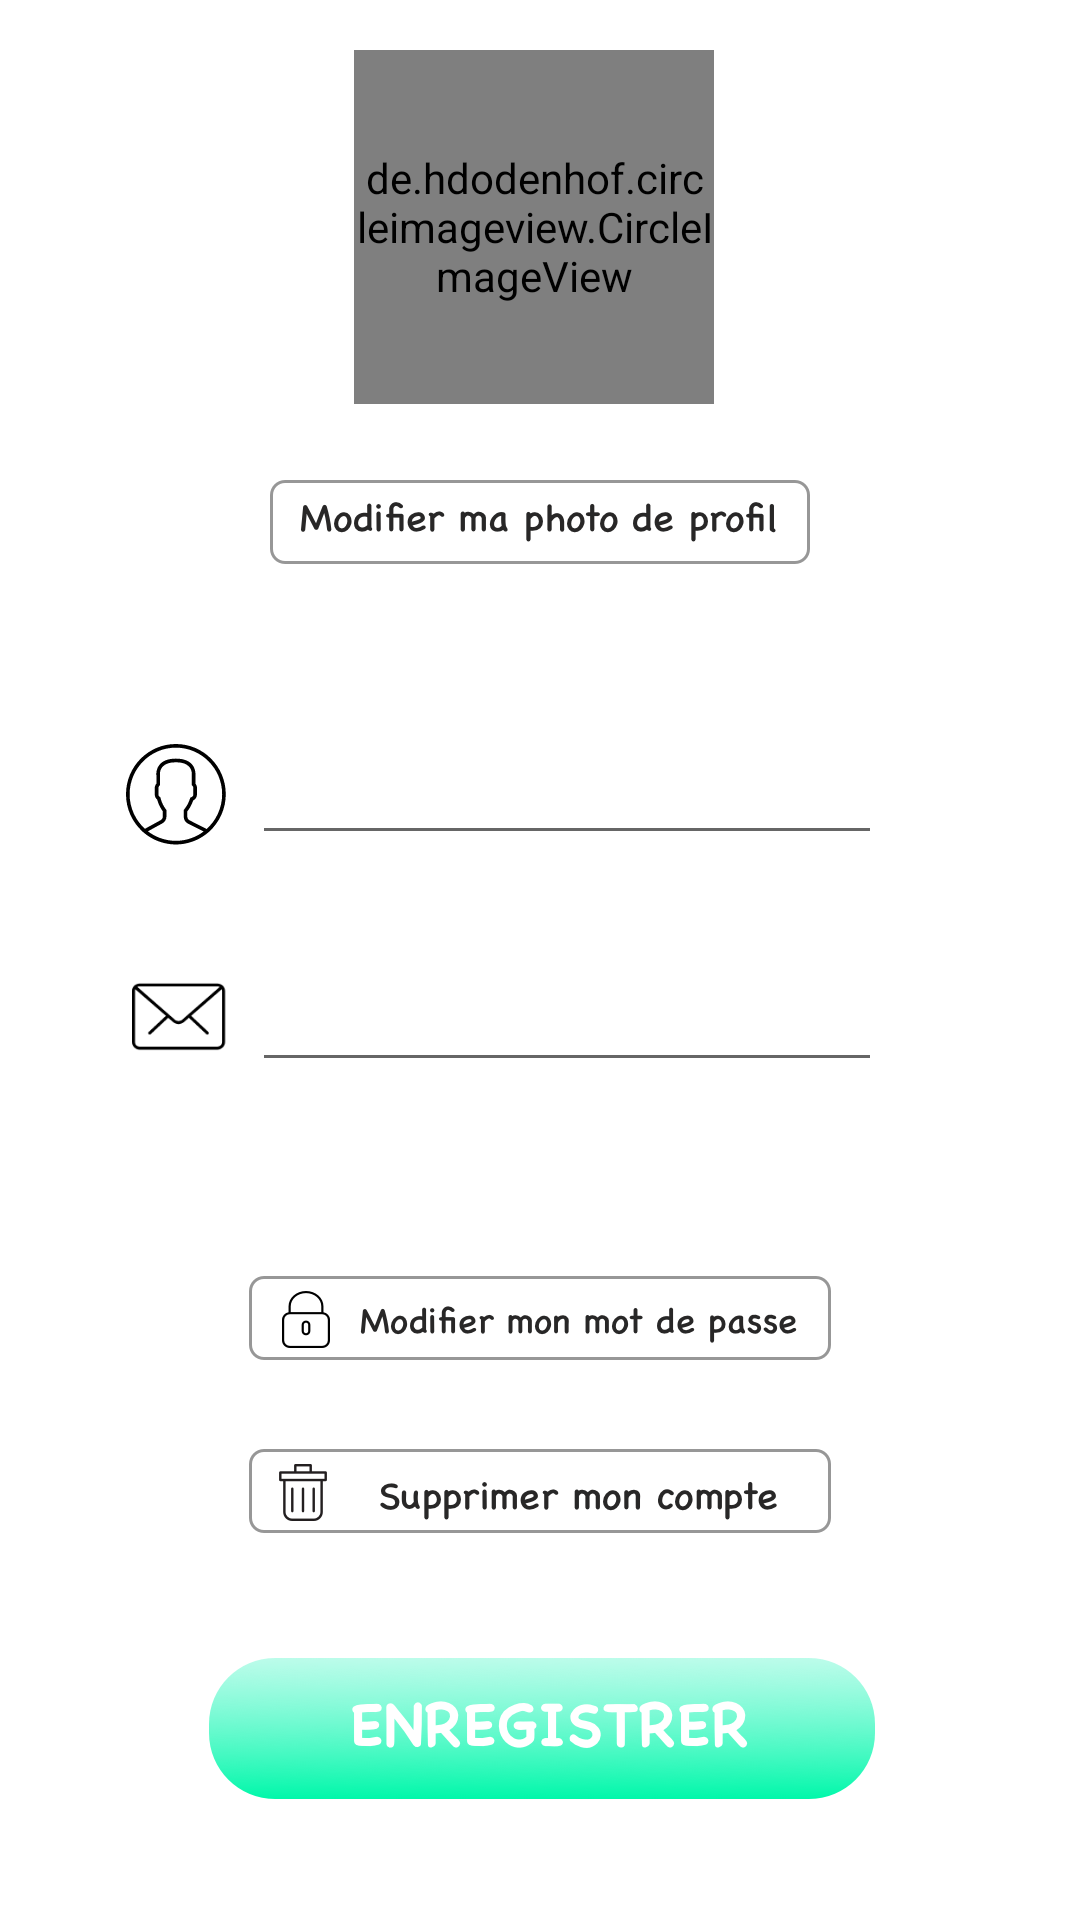

Where icons sit on this 1080px×1920px app screen, as bbox=(x1, y1, x2, y2):
mail: bbox=(132, 983, 226, 1050)
user: bbox=(126, 744, 226, 845)
